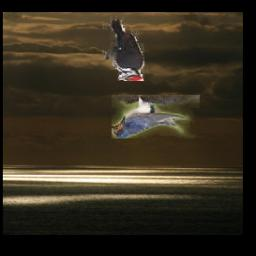Swallow: (112, 95, 200, 138)
Woodpecker: (94, 13, 144, 82)
